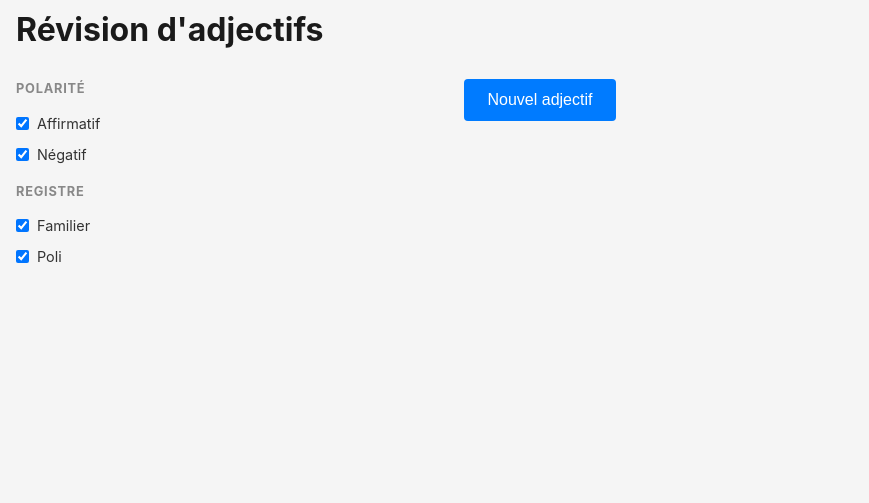
Scenario: AdjectiveRevisionPage › when correct answer submitted, then shows success feedback
This screenshot has width=869, height=503.
Click the button "Nouvel adjectif" at (540, 100), box [464, 79, 616, 121]
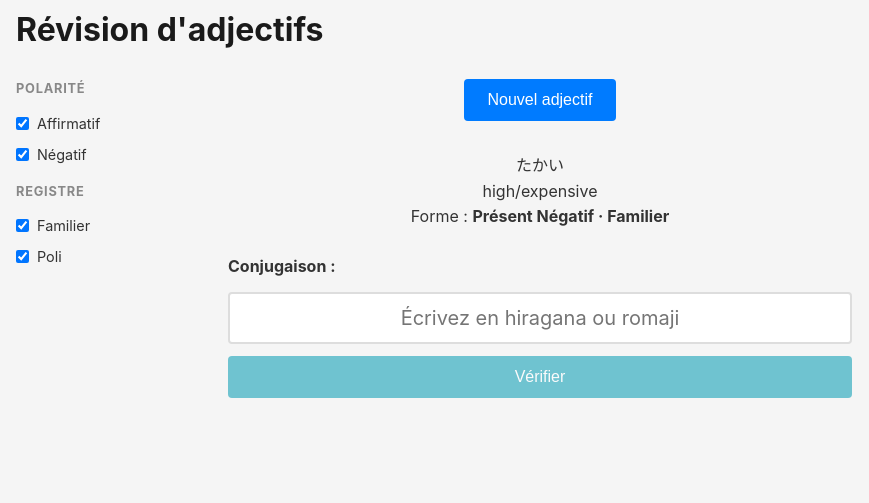
Check: the field labelled "Conjugaison :" is shown
Type "たかくない" into the field labelled "Conjugaison :" at (540, 318), box [228, 292, 852, 344]
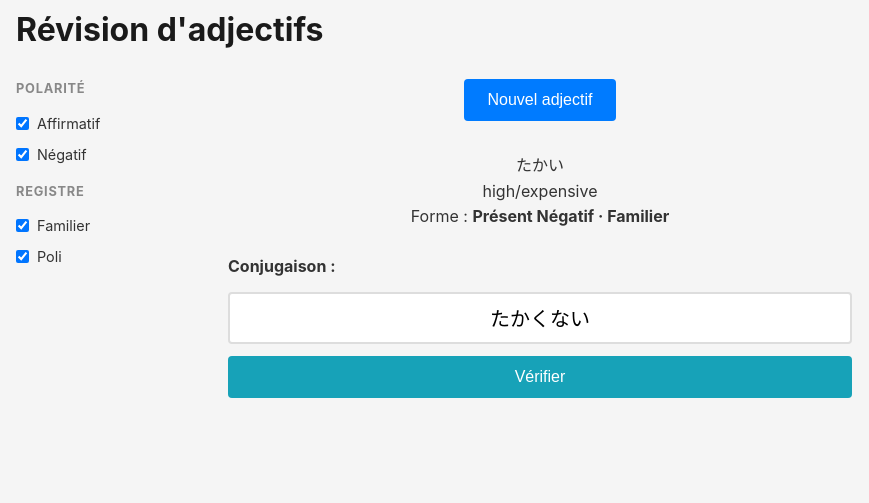
Click the button "Vérifier" at (540, 377), box [228, 356, 852, 398]
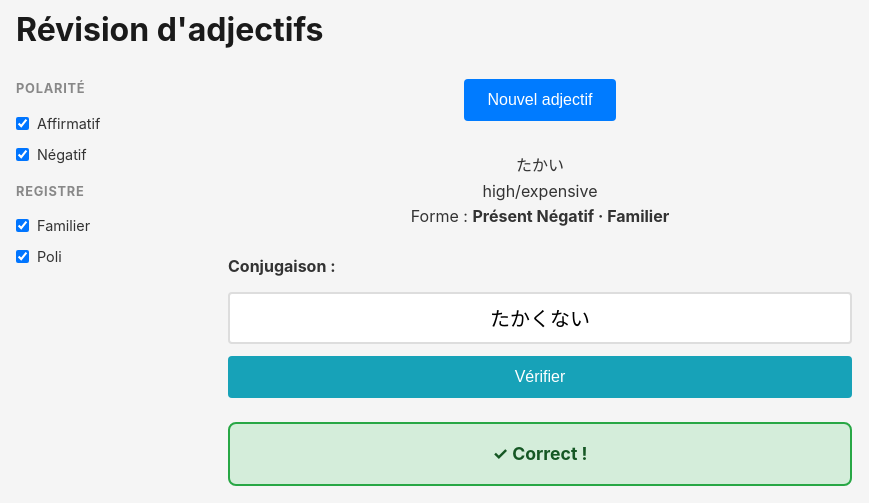
Check: the text "✓ Correct !" is shown, box [228, 422, 852, 486]
